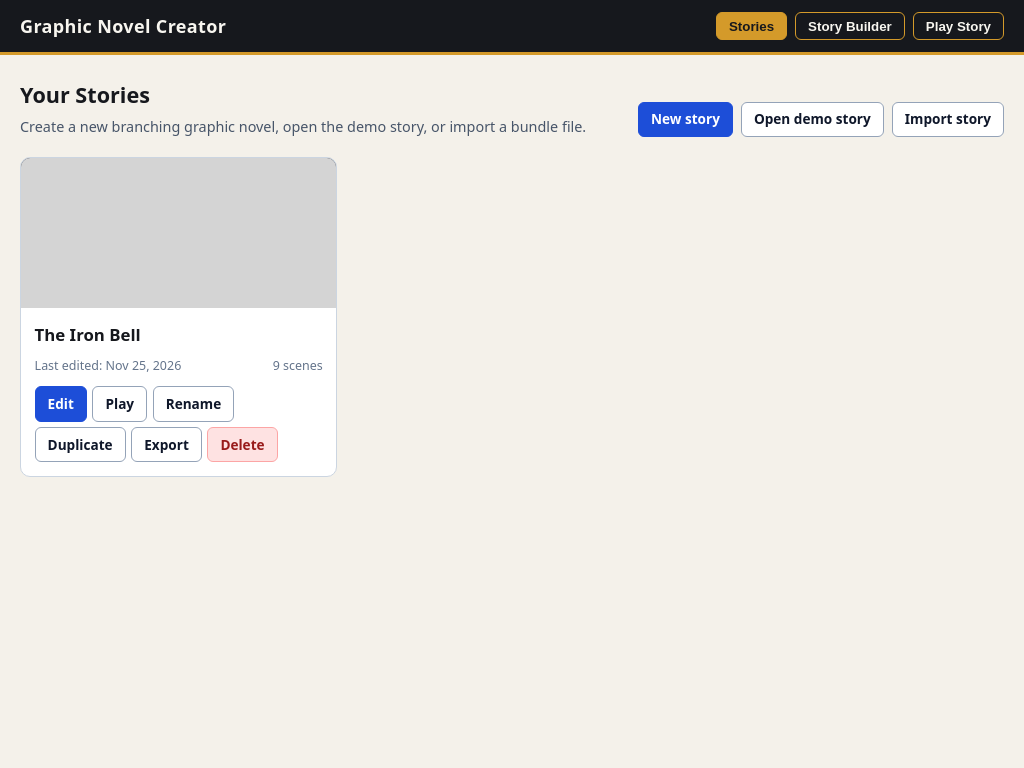
Test: Story Library and bundle export/import (#41) › creates a blank story with one start passage, renames, duplicates, and deletes it with images and save
Later steps or results of the test are not shown.
expect the button "Open demo story" is shown: met, box [741,102,884,137]
Create a new blank story
Click the button "New story" at (685, 120), box [638,102,733,137]
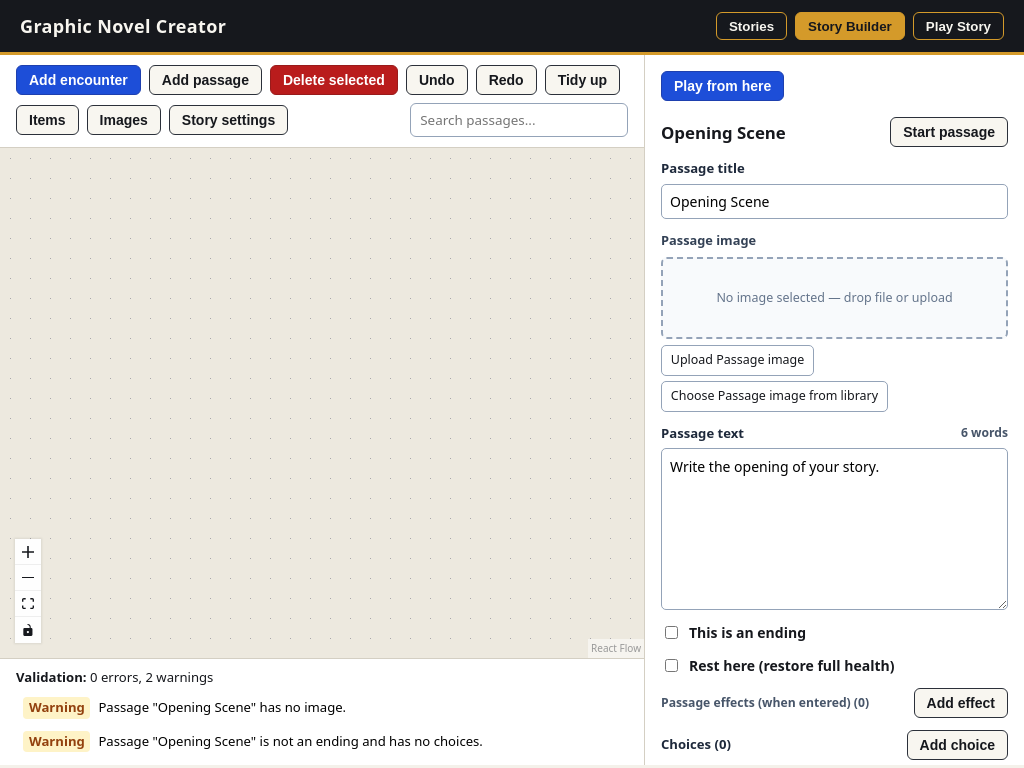
expect the element with test id "passage-inspector" is shown: met, box [661,117,1008,765]
expect the heading "Opening Scene" is shown: met, box [661,120,786,145]
Return to Stories home screen
Click the button "Stories" at (752, 26), box [716,12,787,40]
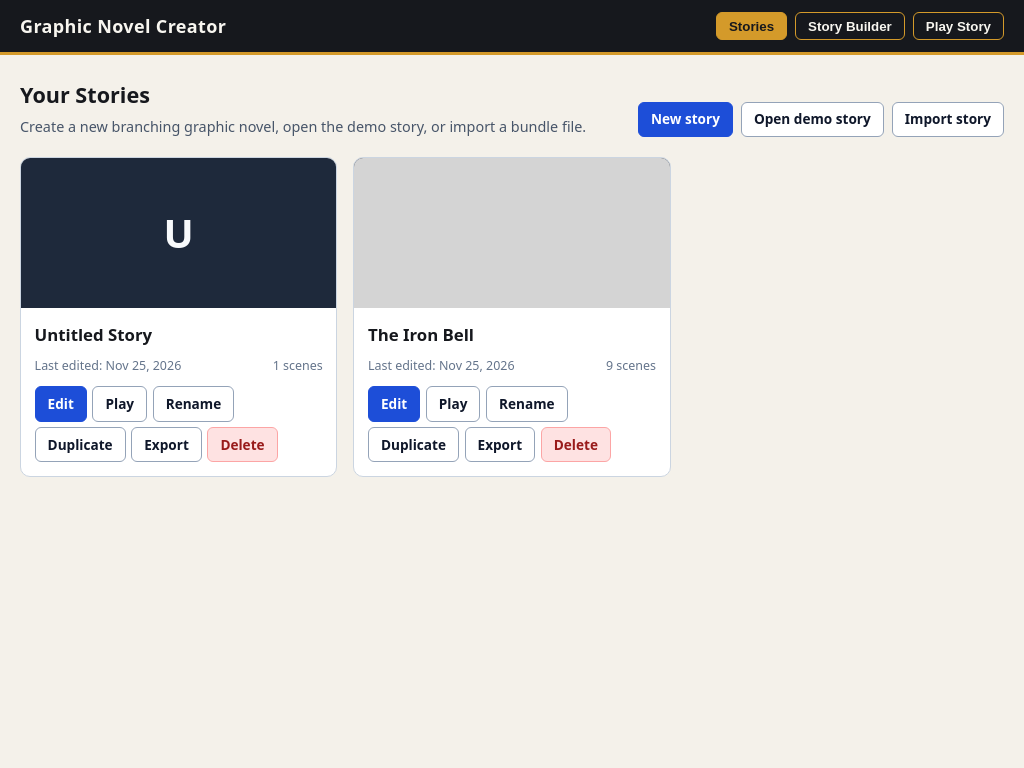
Rename it
Click the button "Rename" below "Untitled Story" at (193, 404), box [153,386,234,422]
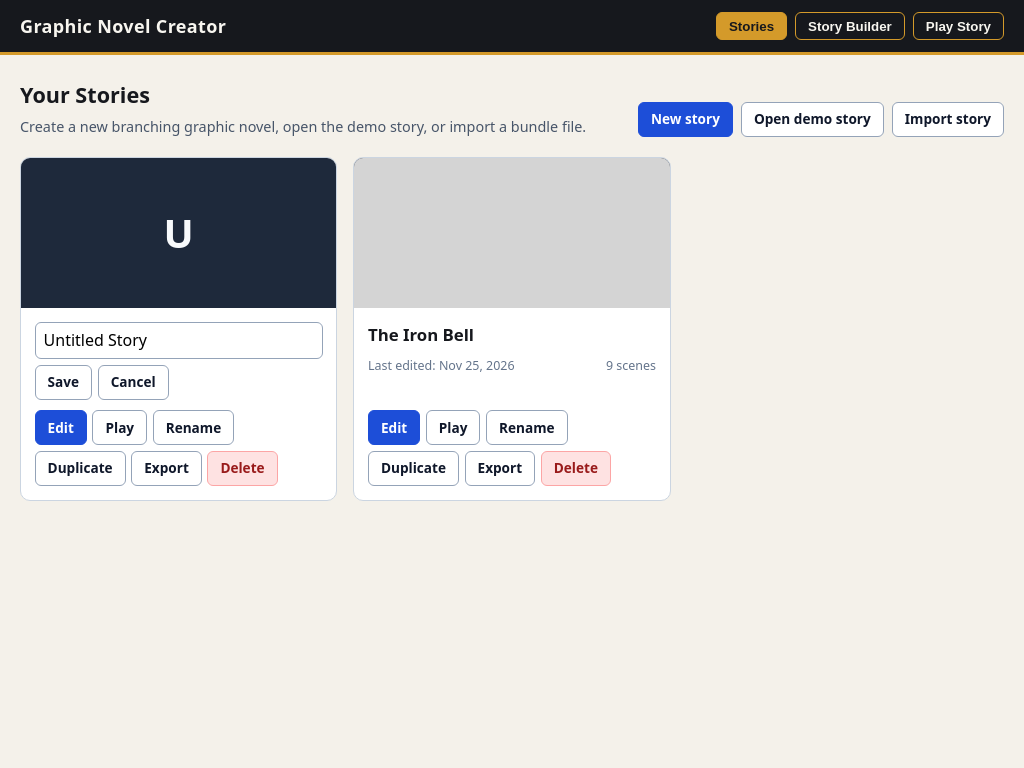
Replace the text in the field named "Rename Untitled Story" with "Clockwork Abbey" at (179, 340), box [35,322,323,359]
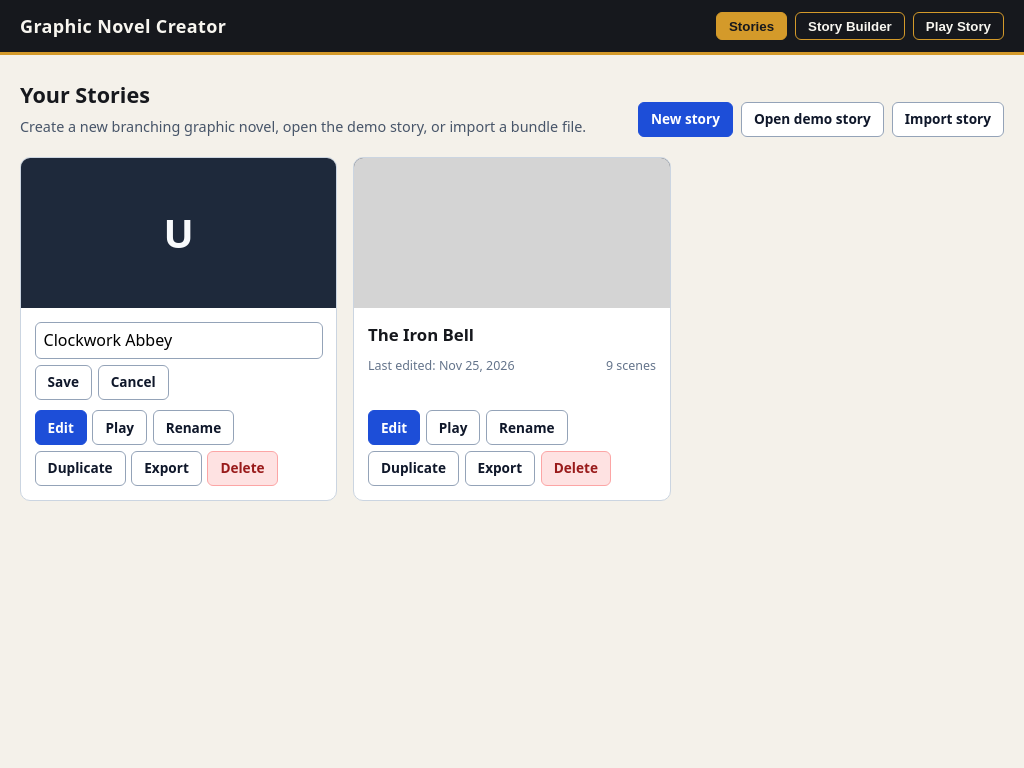
Click the button "Save" at (63, 382), box [35,365,92,400]
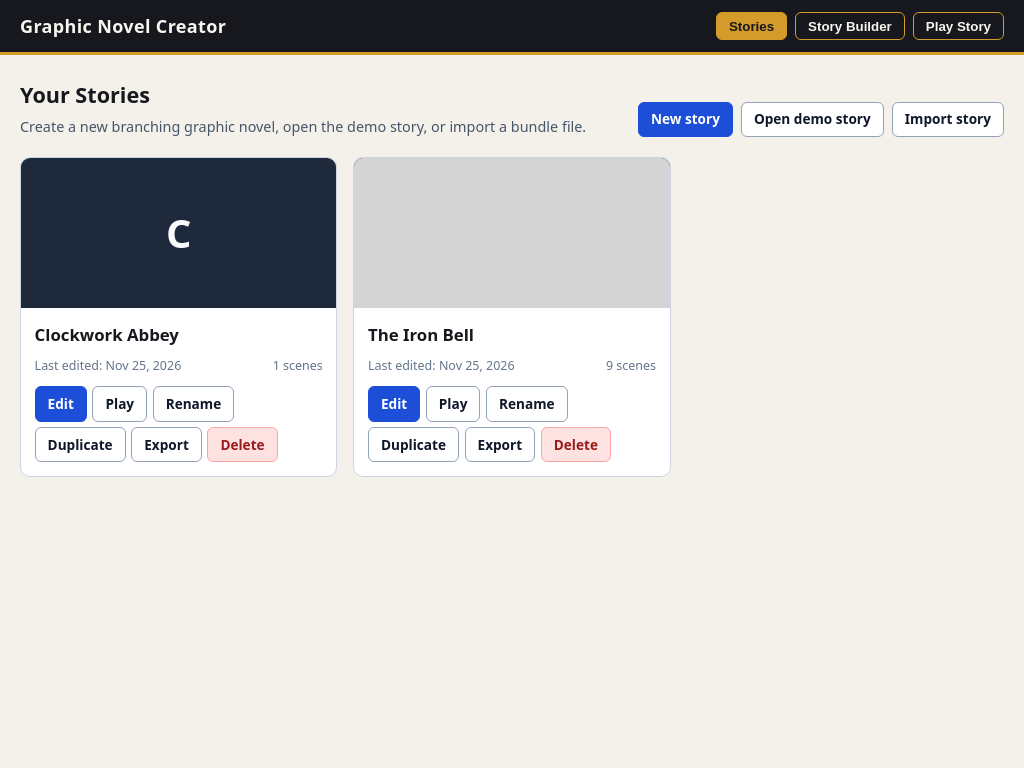
expect the heading "Clockwork Abbey" is shown: met, box [35,323,179,346]
Click the button "Duplicate" below "Clockwork Abbey" at (80, 445), box [35,427,126,462]
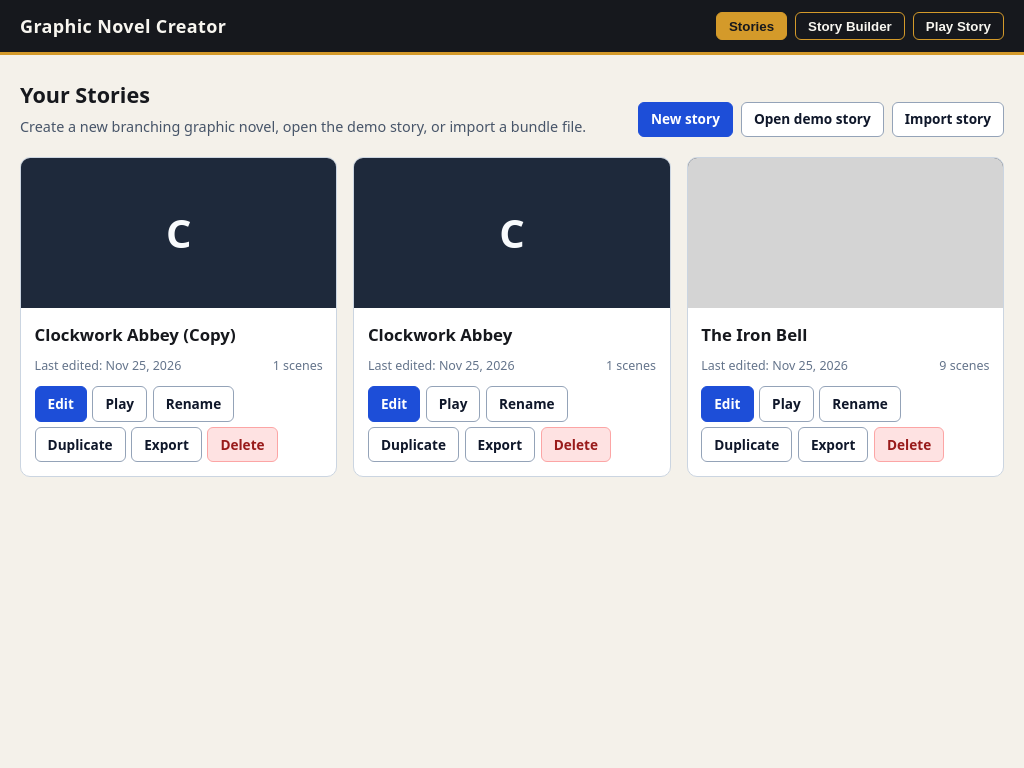
expect the heading "Clockwork Abbey (Copy)" is shown: met, box [35,323,236,346]
